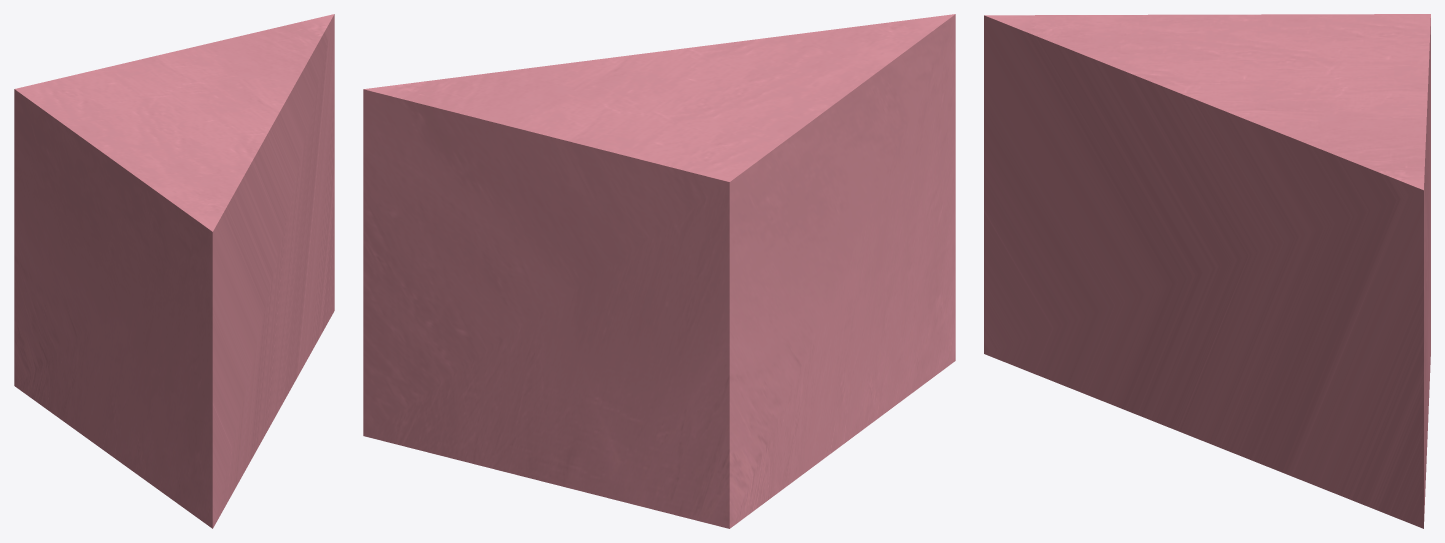
File: rose3.FBX
3 renders of one model, left to right at view 1: azimuth 30°, elevation 25°; view 2: azimuth 150°, elevation 25°; view 3: azimuth 270°, elevation 25°, orthographic. The views are drawn at different scales.
Parts seen in each view (by area): view 1: Ligne042; view 2: Ligne042; view 3: Ligne042.
Boxes of the visible parts, x1=… form: Ligne042: x1=14, y1=14, x2=334, y2=528; Ligne042: x1=363, y1=14, x2=955, y2=528; Ligne042: x1=984, y1=14, x2=1430, y2=528.
Bounding box in the file's own units: 31.05 × 27.8 × 33.26.
1 material, 1 textured.
